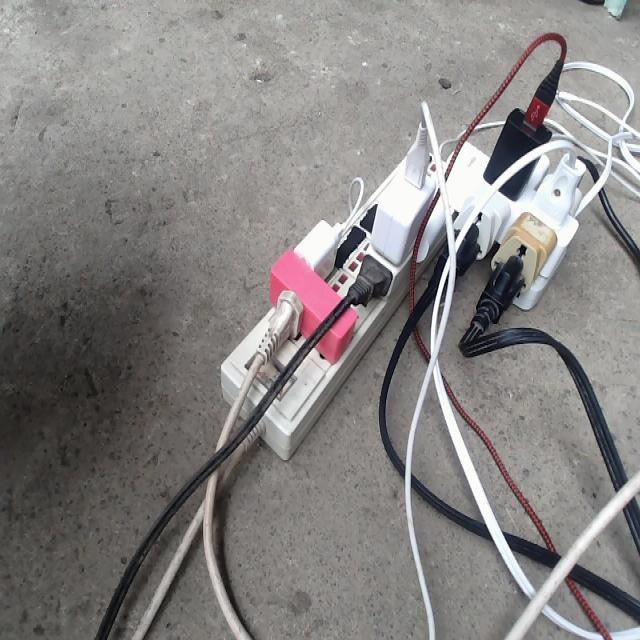-: (218, 66, 579, 458)
